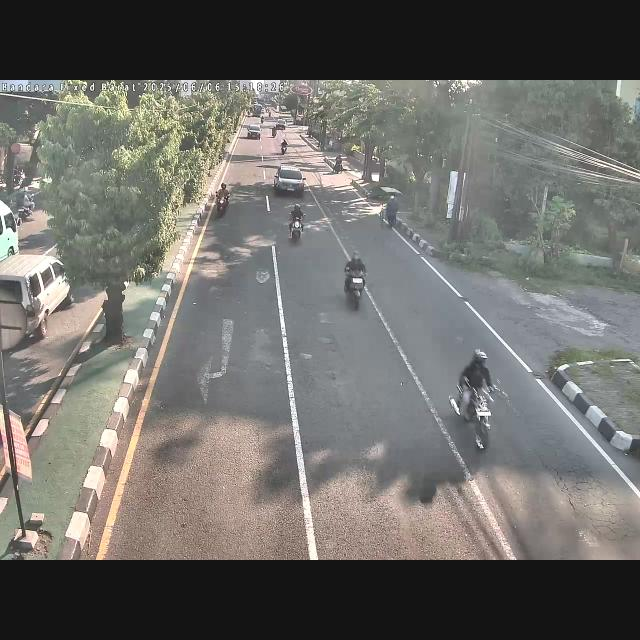Mobil: (270, 162, 308, 198)
Motor: (444, 346, 506, 458), (340, 250, 372, 318), (284, 200, 310, 248), (215, 182, 232, 220)
